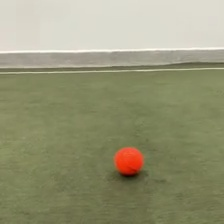ball: (113, 145, 145, 178)
